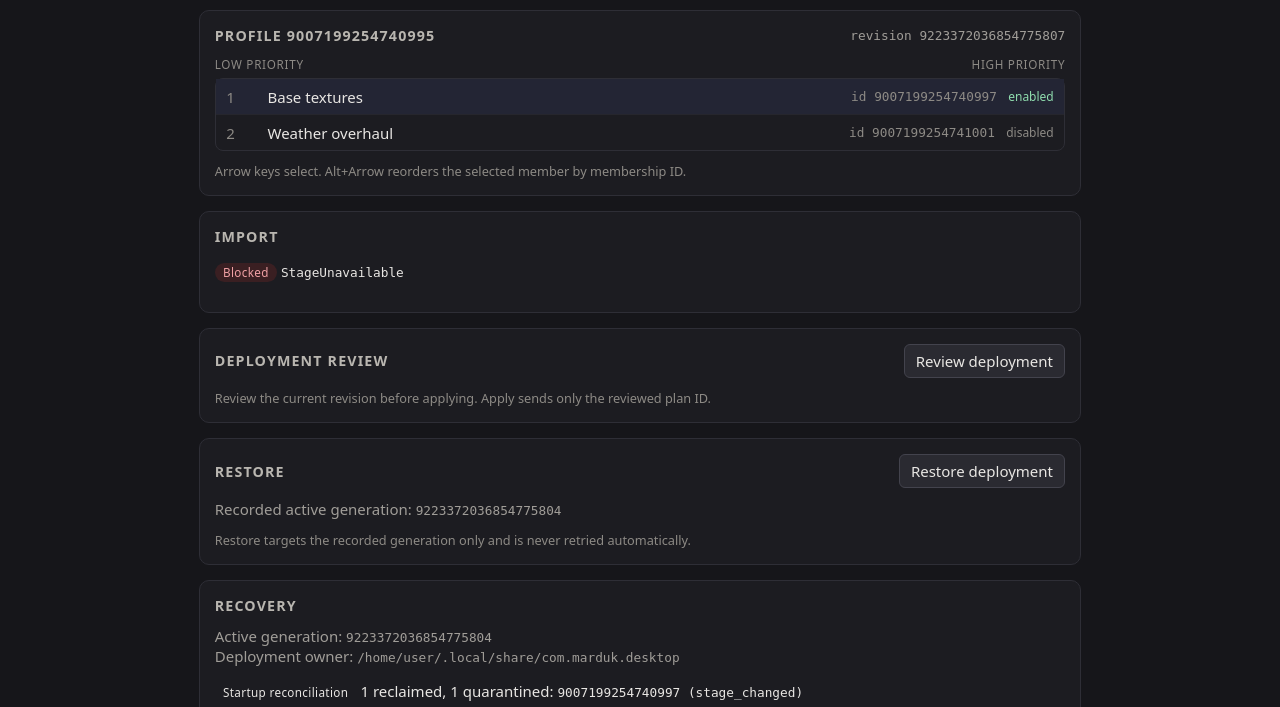
Test: workspace shell › clears the review and reloads status when Apply reports a stale plan
(page scrolled)
expect the text "revision 9223372036854775807" is shown: met, box [850,28,1065,43]
Click the button "Review deployment" at coordinates (984, 361), box [904,344,1065,378]
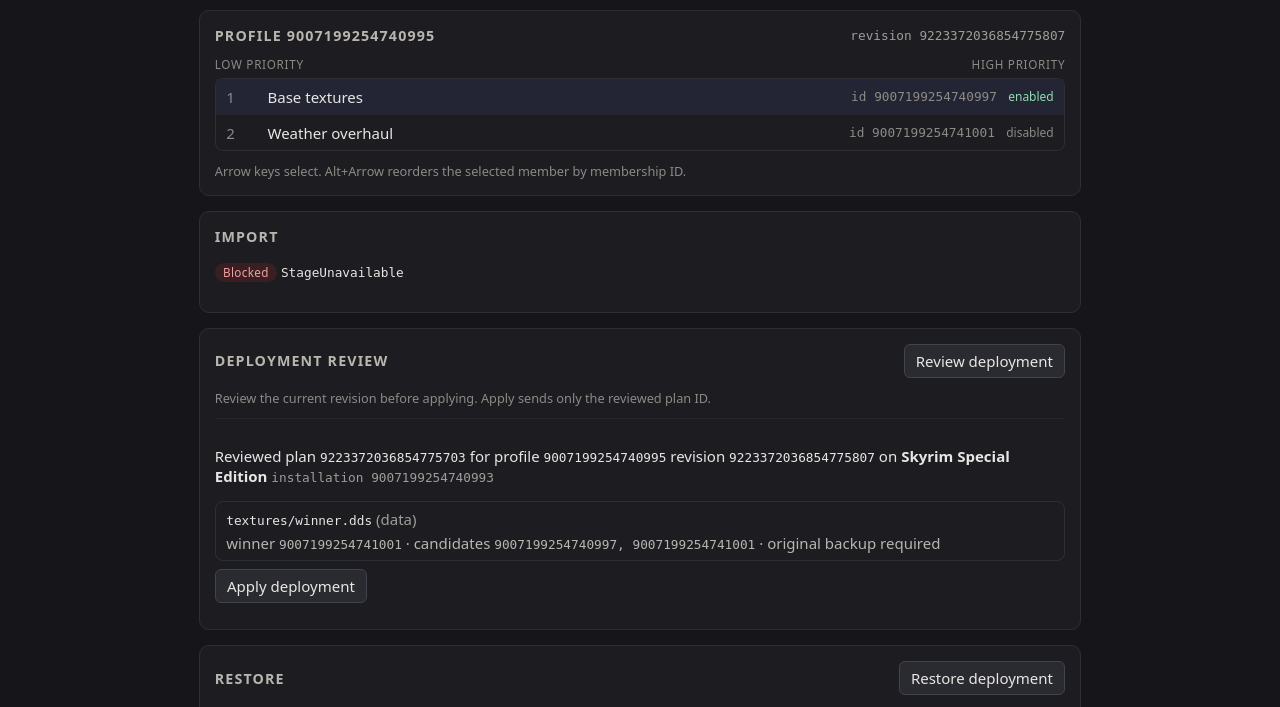
Click the button "Apply deployment" at coordinates (291, 586), box [215,569,367,603]
(page scrolled)
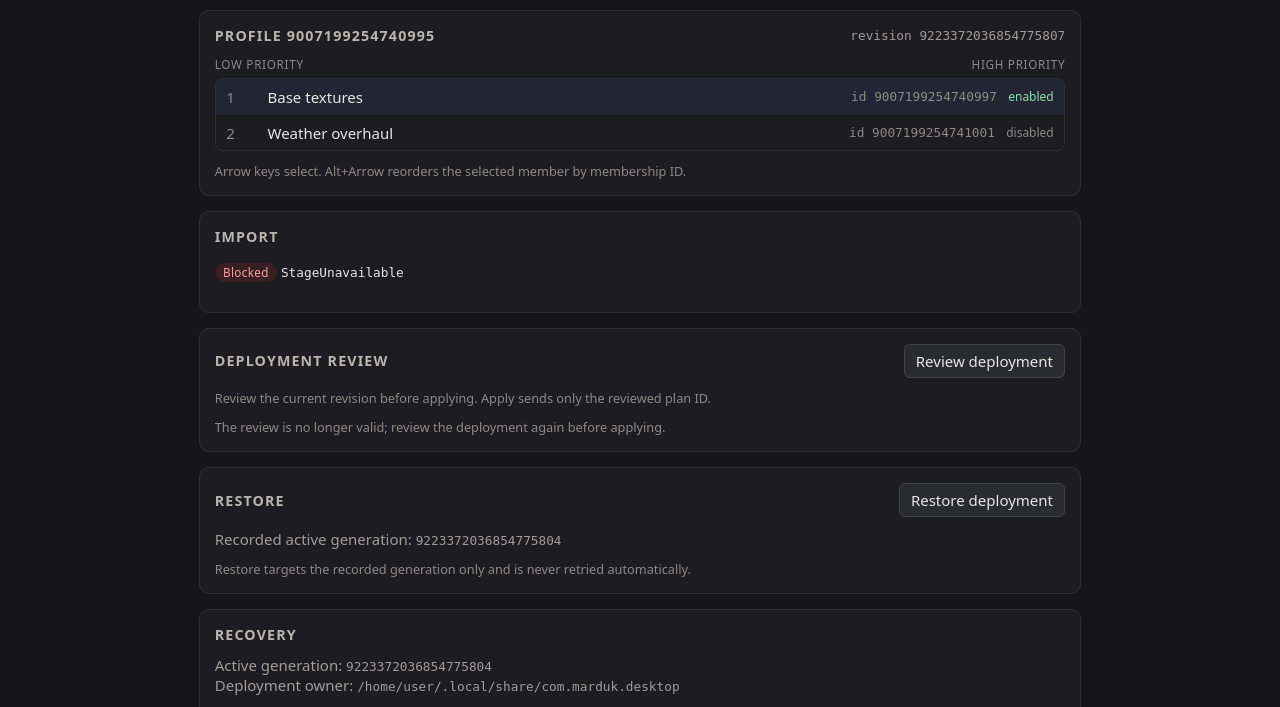
expect the button "Review deployment" is enabled: met, box [904,344,1065,378]
expect the button "Apply deployment" is gone: met
